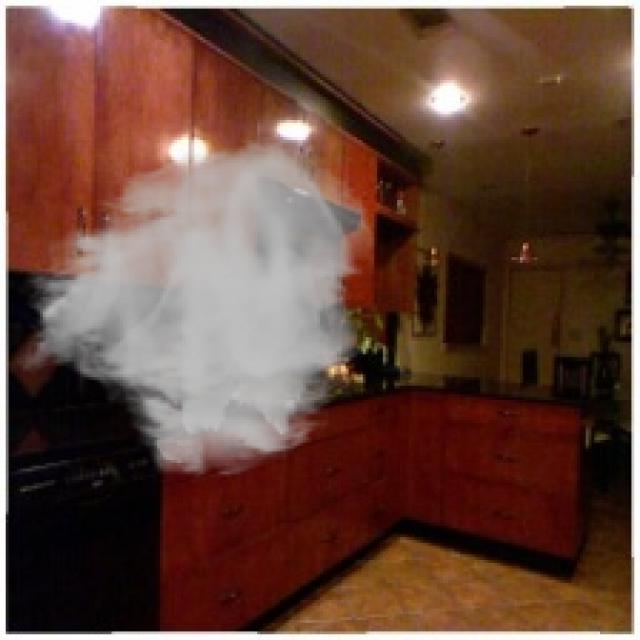smoke: (14, 134, 377, 480)
